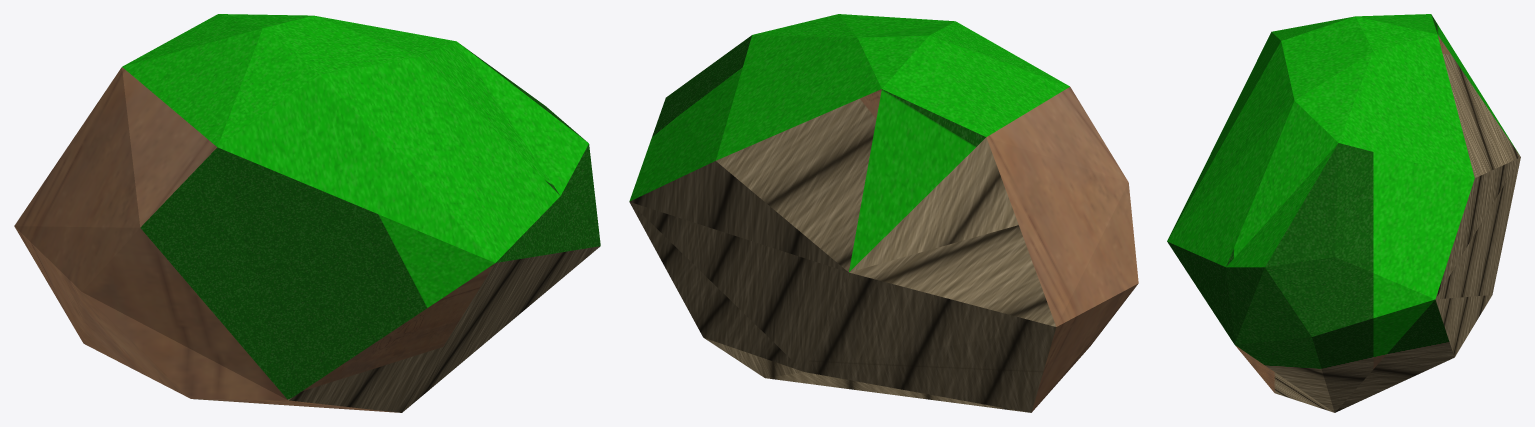
The model's file is textured stone export to unity.fbx.
3 renders of one model, left to right at view 1: azimuth 30°, elevation 25°; view 2: azimuth 150°, elevation 25°; view 3: azimuth 270°, elevation 25°, orthographic. The views are drawn at different scales.
Visible parts, largest first — view 1: pPlatonic1; view 2: pPlatonic1; view 3: pPlatonic1.
Part boxes in pixels (<box>): pPlatonic1: <box>14,14,600,412</box>; pPlatonic1: <box>629,14,1138,412</box>; pPlatonic1: <box>1167,14,1520,412</box>.
Size of the model in its own units: 56.8 by 41.33 by 39.21.
